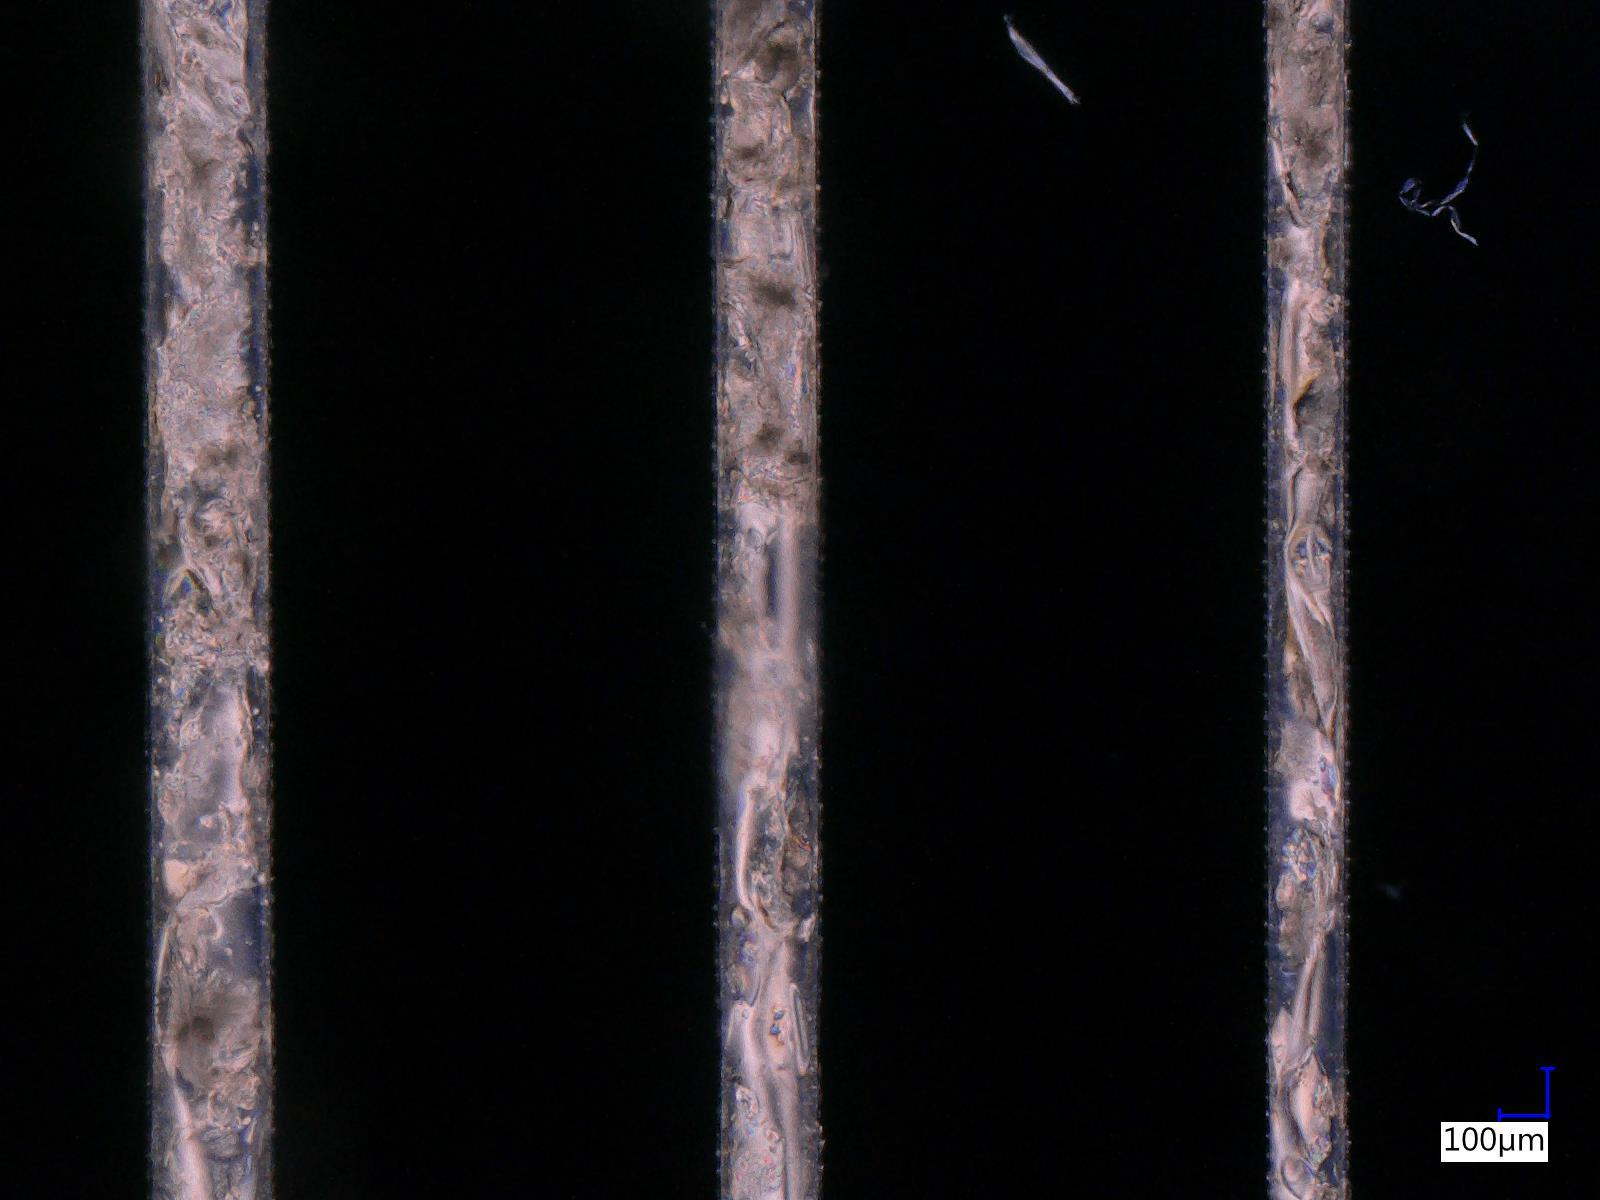sediment: (716, 3, 814, 195), (165, 306, 256, 473), (173, 500, 254, 659), (168, 971, 256, 1111), (1271, 4, 1340, 173), (731, 393, 814, 519), (727, 263, 816, 345), (1285, 834, 1338, 967)
